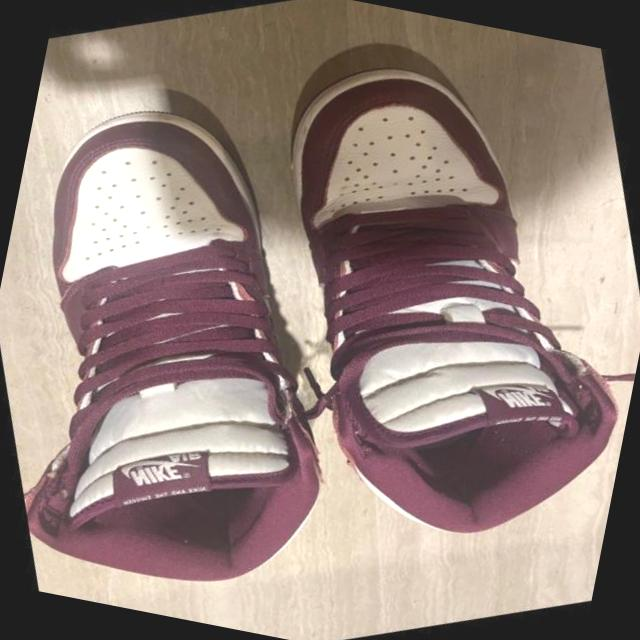nike_original_jordan: (183, 0, 640, 613), (0, 48, 424, 640)
